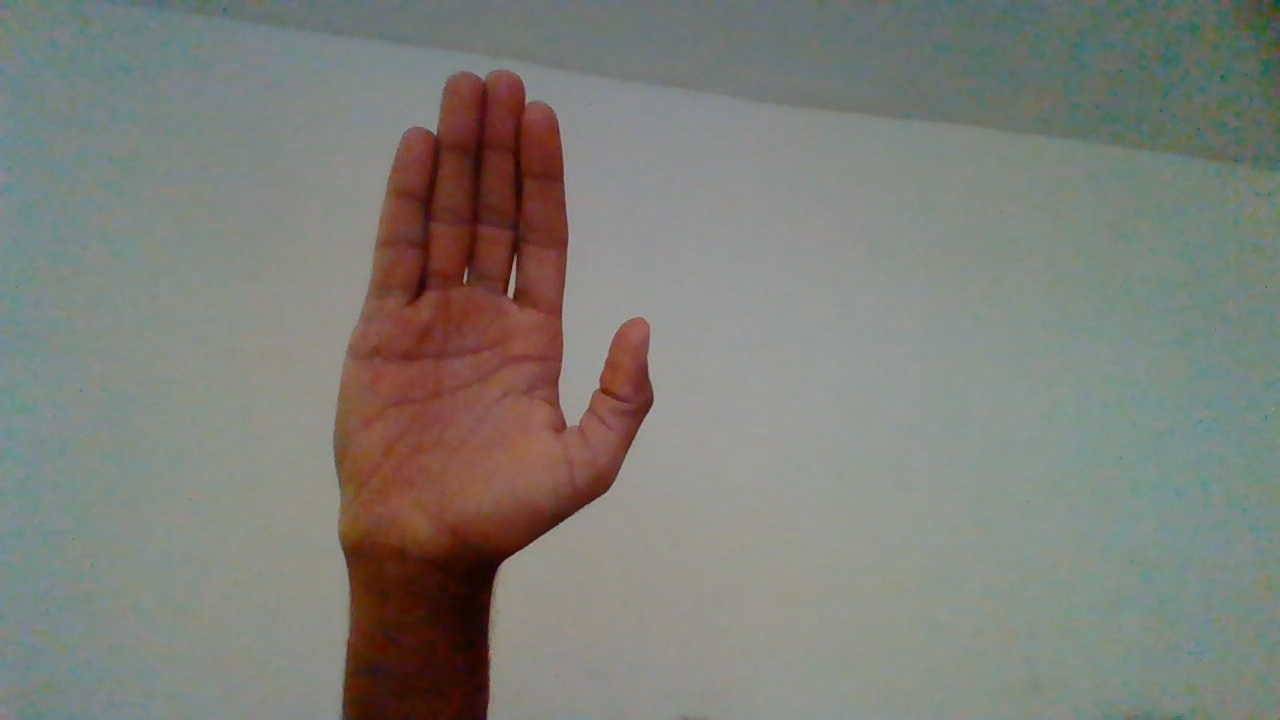ha: (329, 61, 661, 666)
